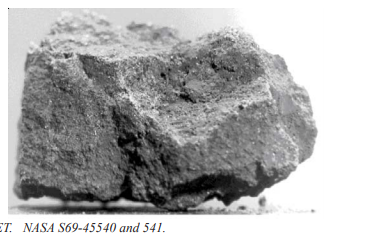Basalt: (8, 8, 325, 213)
